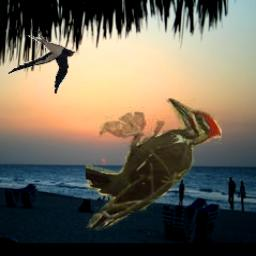Swallow: (9, 31, 76, 93)
Woodpecker: (87, 98, 223, 231)
